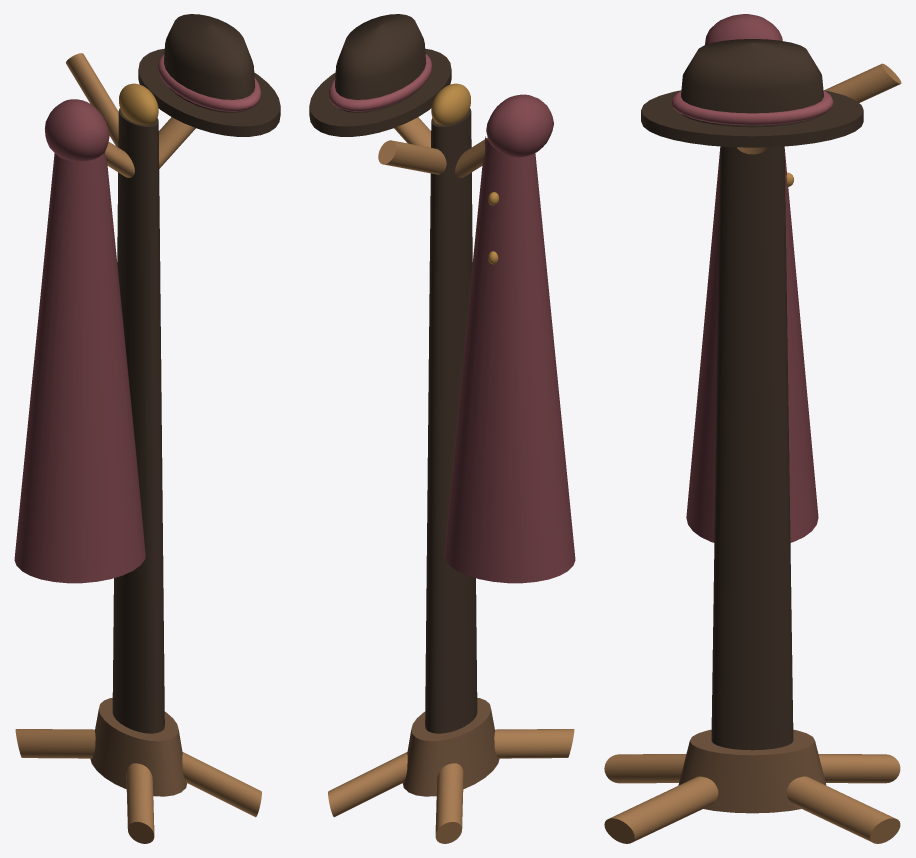
File: detail_coat_rack.glb
3 views of the same model, side by side, from view 1: azimuth 30°, elevation 25°; view 2: azimuth 150°, elevation 25°; view 3: azimuth 270°, elevation 25° (orthographic). The views are drawn at different scales.
Visible parts, largest first — view 1: wood, metal; view 2: wood, metal; view 3: wood, metal.
Part boxes in pixels (bbox=[...]): wood: bbox=[14, 14, 280, 843]; metal: bbox=[157, 54, 261, 111]; wood: bbox=[309, 14, 575, 843]; metal: bbox=[328, 54, 432, 111]; wood: bbox=[604, 14, 901, 843]; metal: bbox=[671, 91, 833, 125].
Bounding box in the file's own units: 0.6 × 1.8 × 0.6.
